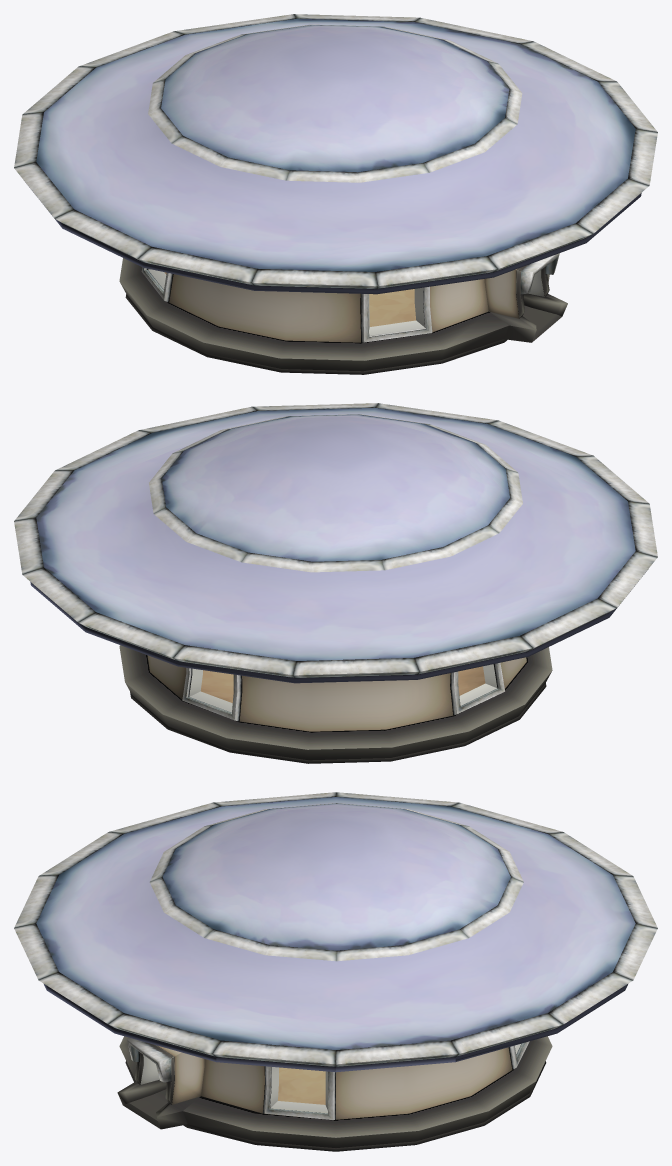
Rendered from cylinder_house_50m.DAE.
3 views of the same model, one above another, from view 1: azimuth 30°, elevation 25°; view 2: azimuth 150°, elevation 25°; view 3: azimuth 270°, elevation 25° (orthographic).
Parts seen in each view (by area): view 1: Cylinder01; view 2: Cylinder01; view 3: Cylinder01.
Boxes of the visible parts, x1,y1,x2,y2 form: Cylinder01: (14,14,657,374); Cylinder01: (14,403,657,763); Cylinder01: (14,792,657,1151).
Bounding box in the file's own units: 72.85 × 30.02 × 72.85.
